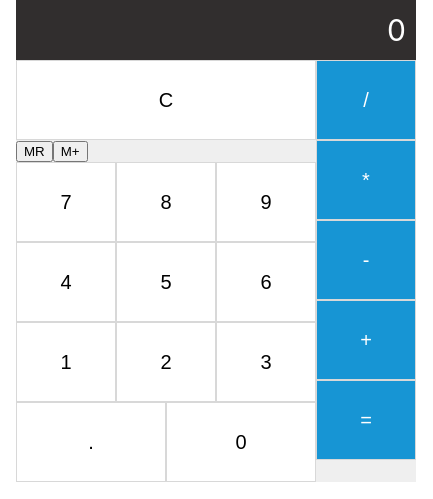
Digits should concatentate before an operator is selected
Click the button with test id "number9". click: (266, 202)
box: [216,162,316,242]
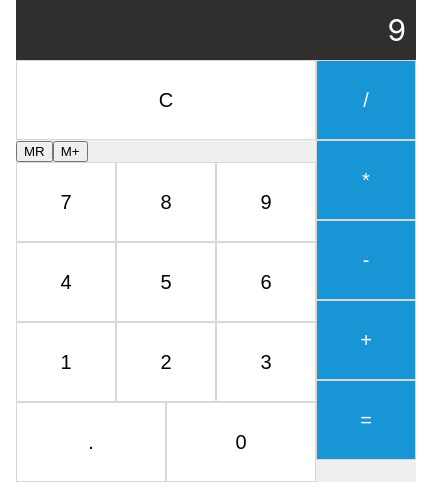
Click the button with test id "number9". click: (266, 202)
box: [216,162,316,242]
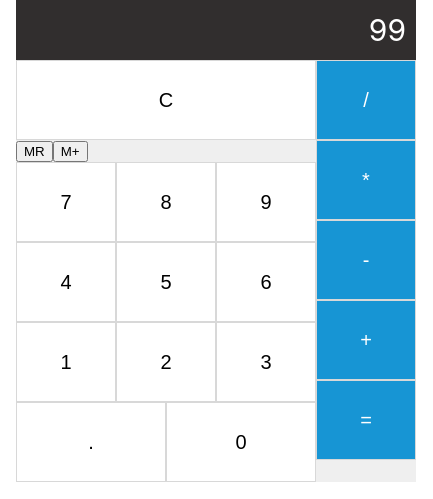
Result: the text with test id "calculator-display" reads "99" at [369,12,406,48]
